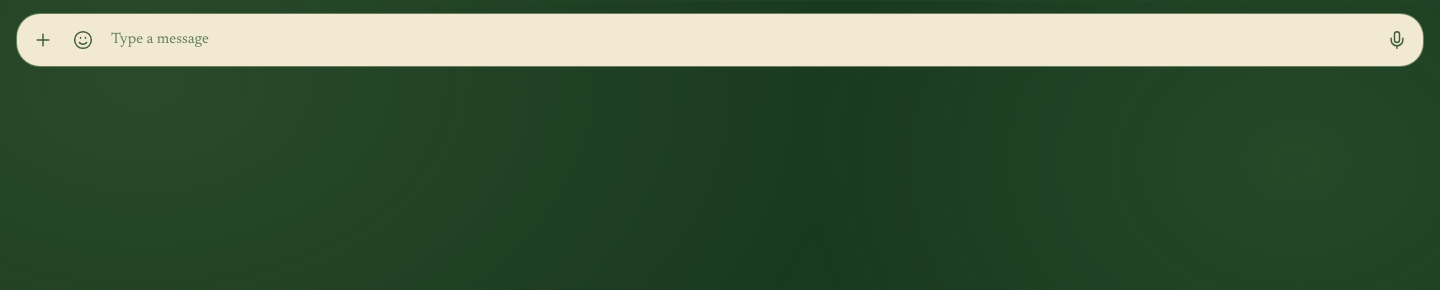
it: MessageInput › opens the grouped upload menu from the attachment control
The width and height of the screenshot is (1440, 290).
Click the button named "Add attachment": click(43, 40) [23,20,63,60]
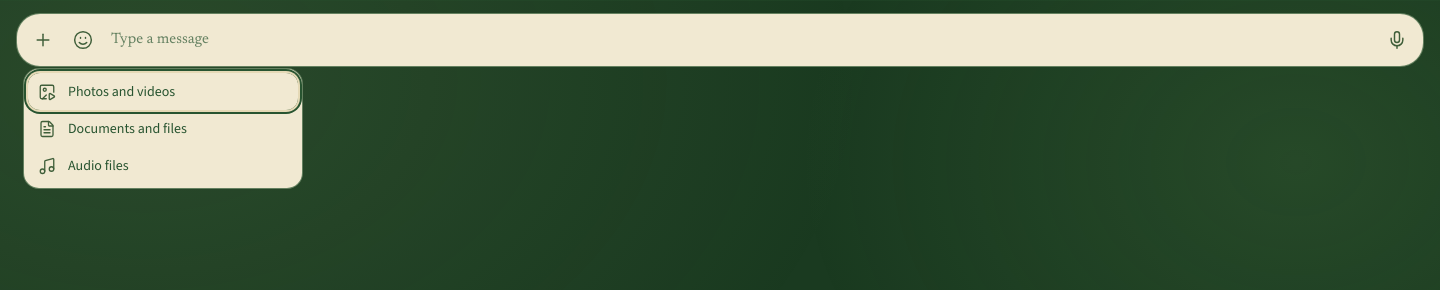
Expected: the menu named "Add an attachment" shows "Photos and videos", [28,73,298,110]
Expected: the menu named "Add an attachment" shows "Documents and files", [28,110,298,147]
Expected: the menu named "Add an attachment" shows "Audio files", [28,147,298,184]
